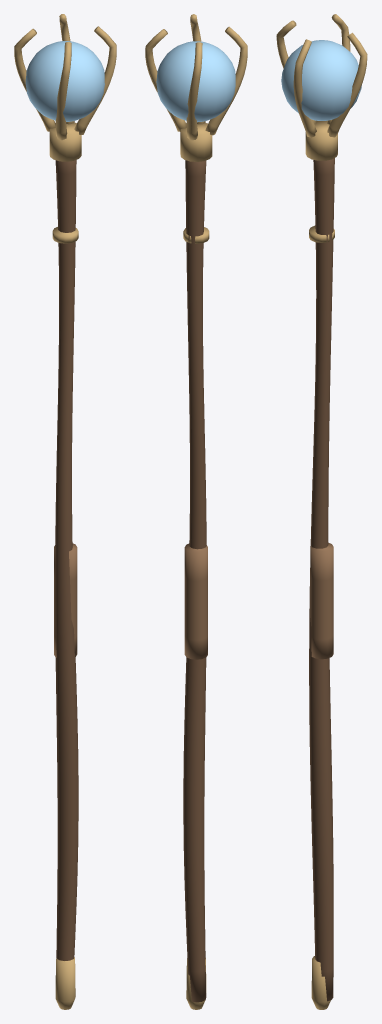
File: CombatMage_Staff.fbx
3 views of the same model, side by side, from view 1: azimuth 30°, elevation 25°; view 2: azimuth 210°, elevation 25°; view 3: azimuth 270°, elevation 25° (orthographic).
Visible parts, largest first — view 1: CombatMage_Staff, Orb; view 2: CombatMage_Staff, Orb; view 3: CombatMage_Staff, Orb.
Part boxes in pixels (x1,y1,x2,y2): CombatMage_Staff: [14, 14, 116, 1009]; Orb: [25, 41, 104, 121]; CombatMage_Staff: [145, 14, 247, 1009]; Orb: [156, 41, 235, 122]; CombatMage_Staff: [276, 14, 367, 1009]; Orb: [281, 40, 361, 120].
Bounding box in the file's own units: 0.1683 × 2 × 0.1682.
